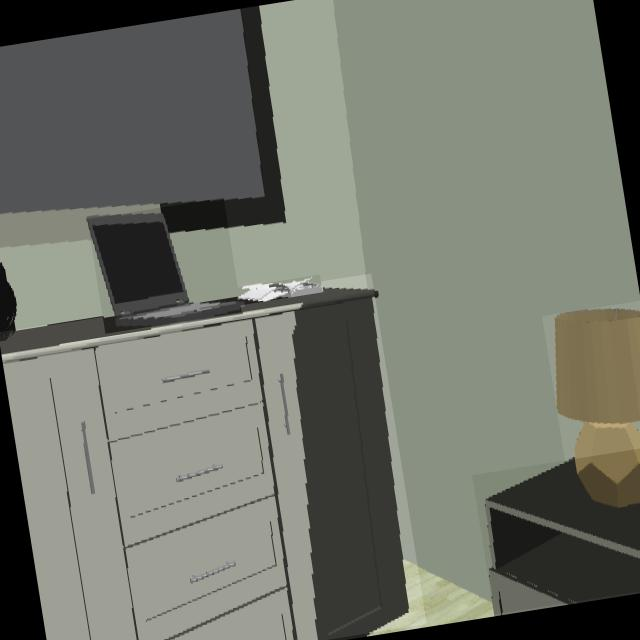book: (239, 278, 323, 302)
cabinet: (0, 290, 409, 640)
lamp: (555, 309, 640, 507)
laptop: (88, 212, 241, 326)
nighttable: (486, 459, 640, 614)
